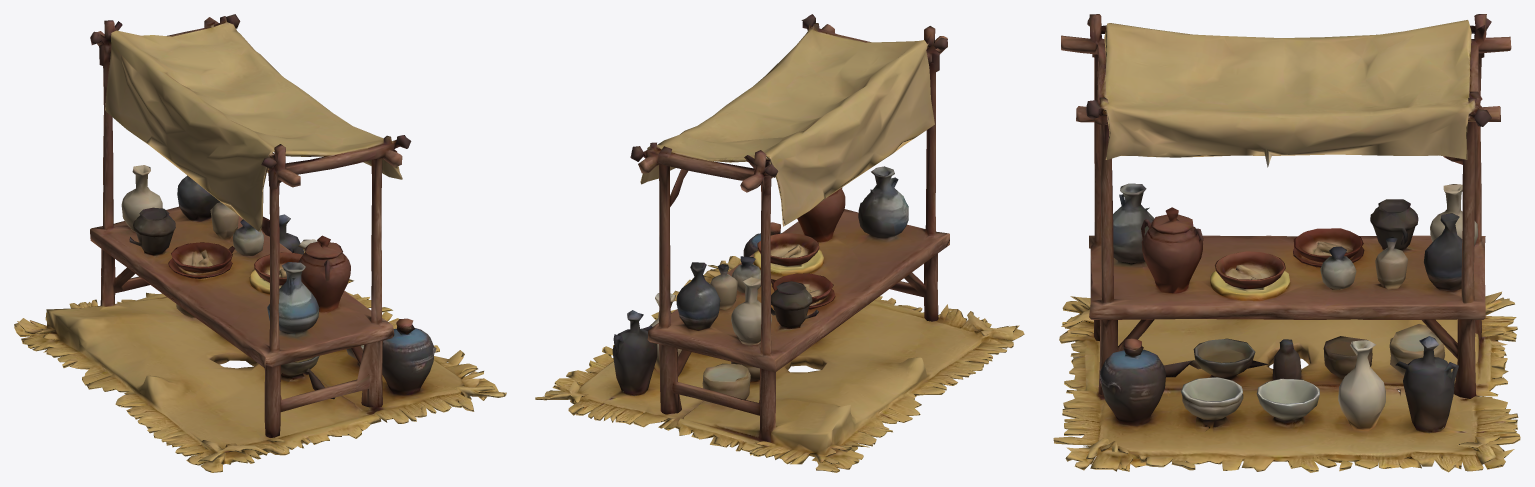
Rendered from stall-pottery.glb.
The picture shows the model from 3 angles, left to right: view 1: azimuth 30°, elevation 25°; view 2: azimuth 150°, elevation 25°; view 3: azimuth 270°, elevation 25°; orthographic projection. The views are drawn at different scales.
Parts seen in each view (by area): view 1: tripo_node_7ada3331-c9b6-40bd-be3e-c7505c1f179b; view 2: tripo_node_7ada3331-c9b6-40bd-be3e-c7505c1f179b; view 3: tripo_node_7ada3331-c9b6-40bd-be3e-c7505c1f179b.
Boxes of the visible parts, x1,y1,x2,y2 form: tripo_node_7ada3331-c9b6-40bd-be3e-c7505c1f179b: [14, 14, 506, 472]; tripo_node_7ada3331-c9b6-40bd-be3e-c7505c1f179b: [535, 14, 1024, 472]; tripo_node_7ada3331-c9b6-40bd-be3e-c7505c1f179b: [1053, 14, 1520, 472].
Size of the model in its own units: 0.8876 by 0.8042 by 1.
Materials: 1 (1 with a texture image).
